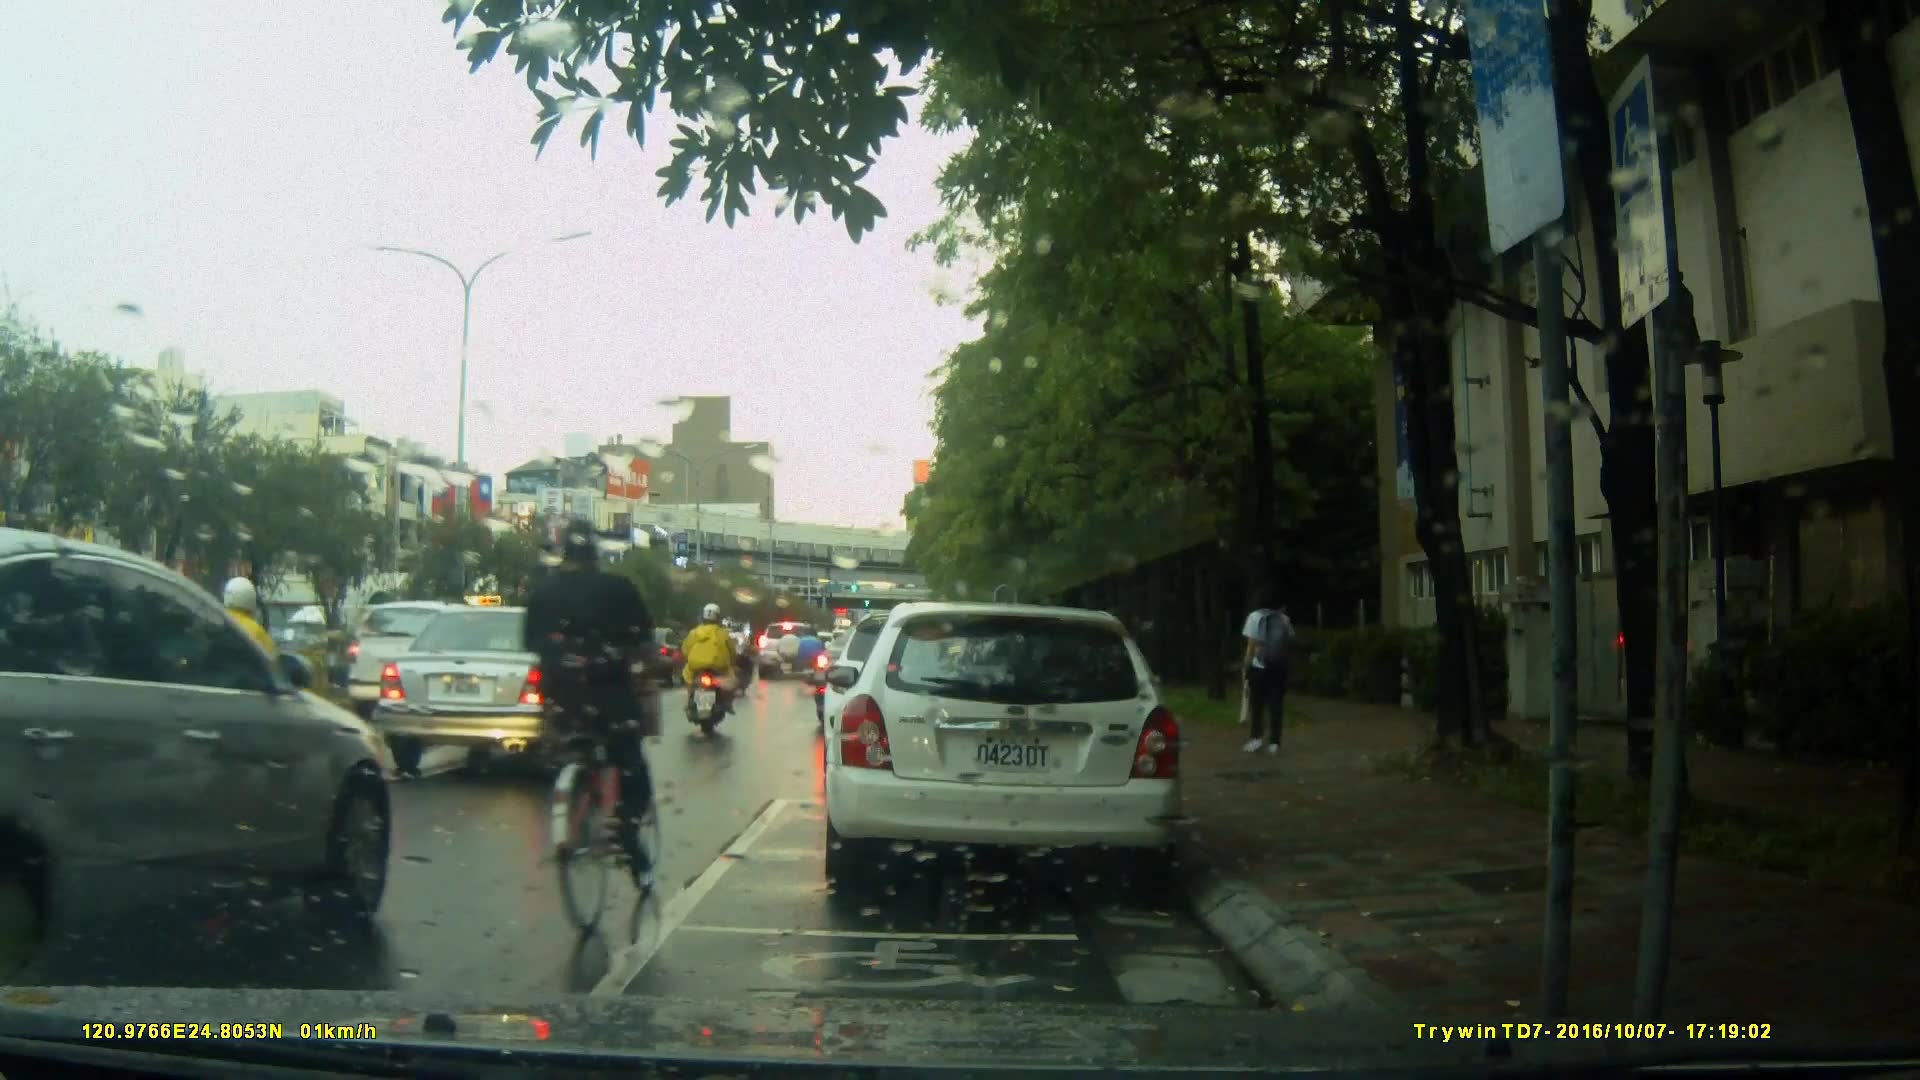pedestrian: (1239, 578, 1302, 758)
rider: (522, 513, 665, 940), (183, 578, 286, 793), (680, 598, 744, 743), (714, 616, 745, 702), (800, 619, 828, 701)
vehicle: (2, 527, 393, 987), (820, 602, 1188, 898), (375, 603, 648, 777), (344, 600, 530, 717)
